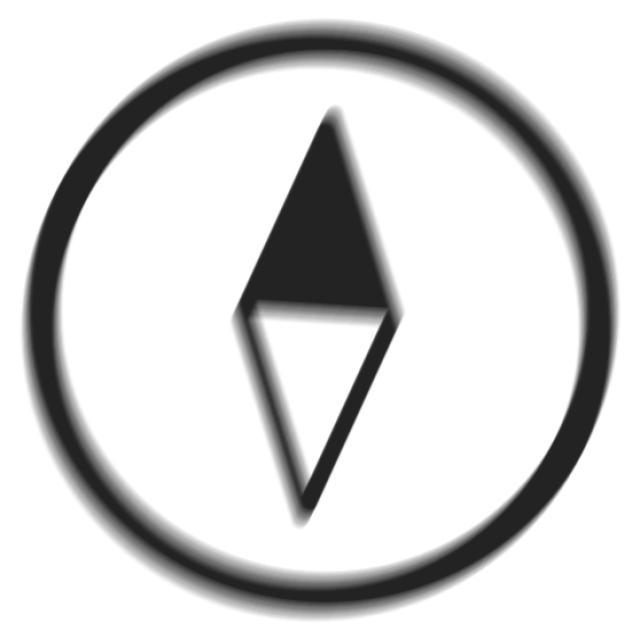compass: (11, 14, 631, 635)
